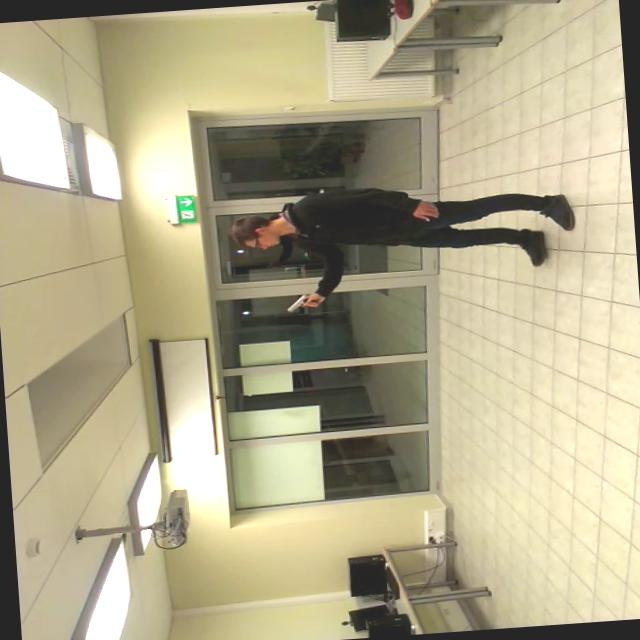handgun: (280, 280, 332, 326)
